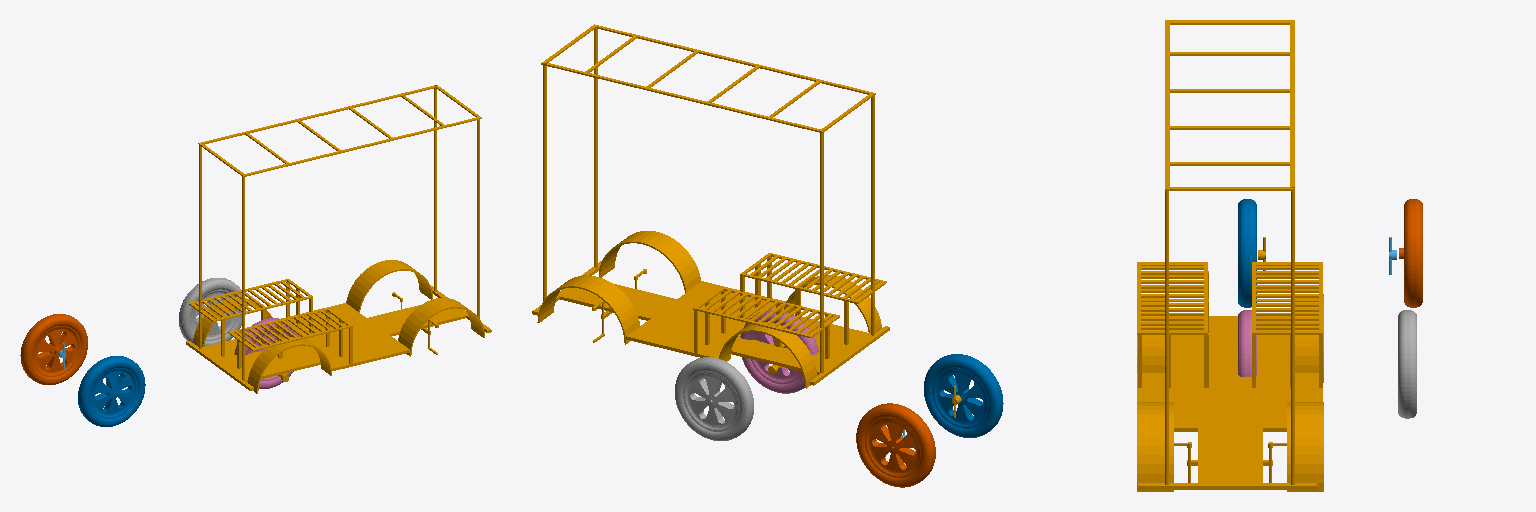
robot.urdf — automama:
<?xml version="1.0"?>

<robot name="automama" xmlns:xacro="http://ros.org/wiki/xacro">
  <origin xyz="0 2 2" rpy="0 0 0"/>
  <!-- <model name='x500_base'> -->
  <self_collide>false</self_collide>
  <static>false</static>


  <link name="chassis">
    <inertial>
      <origin xyz="-0.5 0.3 0.3" rpy="0 0 0"/>
      <mass value="300"/>
      <inertia ixx="0.5" ixy="0.0" ixz="0.0" iyy="0.5" iyz="0.0" izz="0.5"/>
      <!-- <mass>2.0</mass>
      <inertia>
        <ixx>0.02166666666666667</ixx>
        <ixy>0</ixy>
        <ixz>0</ixz>
        <iyy>0.02166666666666667</iyy>
        <iyz>0</iyz>
        <izz>0.04000000000000001</izz>
      </inertia> -->
    </inertial>
    <gravity>true</gravity>
    <!-- <velocity_decay/> -->
    <visual>
      <origin xyz="0 0 .025" rpy="0 0 3.141592654"/>
      <geometry>
        <!-- <cylinder length="0.6" radius="0.2"/> -->
        <mesh filename="package://automama/worlds/base_link.stl" />
        <scale>0.01 0.01 0.01</scale>
      </geometry>
    </visual>
    <collision name="collision">
      <geometry>
        <mesh filename="package://automama/worlds/base_link.stl">
          <scale>0.01 0.01 0.01</scale>
        </mesh>
      </geometry>
    </collision>

  </link>

  
  <link name="Camera1">
    <origin xyz="-1.47 0.4 1.85" rpy="0 0 3.14"/>
    <inertial>
        <mass value="0.1"/>
        <inertia ixx="0.000166667" ixy="0.0" ixz="0.0" iyy="0.000166667" iyz="0.0" izz="0.000166667"/>
    </inertial>
    <visual name="camera1_visual">
      <geometry>
        <box size="0.1 0.1 0.1"/>
      </geometry>
    </visual>
    <collision name="collision">
      <geometry>
        <box size="0.1 0.1 0.1"/>
      </geometry>
    </collision>
  </link>

  <joint name="Camera1_joint" type="fixed">
      <parent link="chassis"/>
      <child link="Camera1"/>
      <origin xyz="-1.47 0.4 1.85" rpy="0 0 0"/>
      <axis xyz="0 0 1"/>
  </joint>

  <link name="Camera2">
    <origin xyz="-1.47 0.05 1.85" rpy="0 0 3.14"/>
    <inertial>
        <mass value="0.1"/>
        <inertia ixx="0.000166667" ixy="0.0" ixz="0.0" iyy="0.000166667" iyz="0.0" izz="0.000166667"/>
    </inertial>
    <visual name="camera2_visual">
      <geometry>
        <box size="0.1 0.1 0.1"/>
      </geometry>
    </visual>
    <collision name="collision">
      <geometry>
        <box size="0.1 0.1 0.1"/>
      </geometry>
    </collision>
  </link>

  <joint name="Camera2_joint" type="fixed">
      <parent link="chassis"/>
      <child link="Camera2"/>
      <origin xyz="-1.47 0.05 1.85" rpy="0 0 0"/>
      <axis xyz="0 0 1"/>
  </joint>

  
  <link name="sensor_box">
    <origin xyz="-1.47 0.225 1.95" rpy="0 0 0"/>
    <inertial>  
      <mass value="0.1"/>
      <inertia ixx="0.000166667" ixy="0.0" ixz="0.0" iyy="0.000166667" iyz="0.0" izz="0.000166667"/>
    </inertial>
    <collision name="sensor_box_collision">
      <geometry>
        <box size="0.1 0.1 0.1"/>
      </geometry>
    </collision>
    <visual name="sensor_box_visual">
      <geometry>
        <box size="0.1 0.1 0.1"/>
      </geometry>
    </visual>
  </link>

  <joint name="sensor_box_joint" type="fixed">
    <parent link="chassis"/>
    <child link="sensor_box"/>
    <origin xyz="-1.47 0.225 1.95" rpy="0 0 0"/>
  </joint>


  <link name="front_left_wheel">
    <inertial>
      <origin xyz="-1.13 -0.15 0.25" rpy="0 0 0"/>
      <mass value="20"/>
      <inertia ixx="1" ixy="0" ixz="0" iyy="1" iyz="0" izz="1"/>
    </inertial>
    <visual name="visual">
      <origin xyz="0 0 0" rpy="0 0 0"/>
      <geometry>
        <mesh filename="package://automama/worlds/wheel1_1.stl"/>
        <scale>0.01 0.01 0.01</scale>
      </geometry>
      <!-- <material name="default">
        <color rgba="0.5 0.5 0.3 1"/>
      </material> -->
    </visual>
    <collision name="collision">
      <origin xyz="0 0 0" rpy="0 0 0"/>
      <geometry>
        <mesh filename="package://automama/worlds/wheel1_1.stl"/>
        <scale>0.01 0.01 0.01</scale>
      </geometry>
      <surface>
        <friction>
          <ode>
            <mu>0.5</mu>
            <mu2>1.0</mu2>
            <fdir1>0 0 1</fdir1>
          </ode>
        </friction>
      </surface>
    </collision>
  </link>

  <joint name="front_left_wheel_joint" type="continuous">
    <origin xyz="-1.13 -0.15 0.25" rpy="0 0 0"/>
    <parent link="front_left_wheel_steering_link"/>
    <child link="front_left_wheel"/>
    <axis xyz="0 1 0"/>
    <!-- <limit lower="-1.79769e+308" upper="1.79769e+308"/> -->
  </joint>


  <link name="front_right_wheel">
    <inertial>
      <origin xyz="-1.13 0.6 0.25" rpy="0 0 0"/>
      <mass value="20"/>
      <inertia ixx="1" ixy="0" ixz="0" iyy="1" iyz="0" izz="1"/>
    </inertial>
    <visual name="visual">
      <origin xyz="0 0 0" rpy="0 0 0"/>
      <geometry>
        <mesh filename="package://automama/worlds/wheel2_1.stl" />
        <scale>0.01 0.01 0.01</scale>
      </geometry>
      <!-- <material name="material">
        <color rgba="0.2 0.2 0.2 1"/>
      </material> -->
    </visual>
    <collision name="collision">
      <origin xyz="0 0 0" rpy="0 0 0"/>
      <geometry>
        <mesh filename="package://automama/worlds/wheel2_1.stl"/>
        <scale>0.01 0.01 0.01</scale>
      </geometry>
      <surface>
        <friction>
          <ode>
            <mu>0.5</mu>
            <mu2>1.0</mu2>
            <fdir1>0 0 1</fdir1>
          </ode>
        </friction>
      </surface>
    </collision>
  </link>

  <joint name="front_right_wheel_joint" type="continuous">
    <origin xyz="-1.13 0.6 0.25" rpy="0 0 0"/>
    <parent link="front_right_wheel_steering_link"/>
    <child link="front_right_wheel"/>
    <axis xyz="0 1 0"/>
    <!-- <limit lower="-1.79769e+308" upper="1.79769e+308"/> -->
  </joint>


  <link name="rear_left_wheel">
    <inertial>
      <origin xyz="0.045 -0.15 0.25" rpy="0 0 0"/>
      <mass value="20"/>
      <inertia ixx="1" ixy="0" ixz="0" iyy="1" iyz="0" izz="1"/>
    </inertial>
    <gravity>true</gravity>
    <visual name="visual">
      <origin xyz="0 0 0" rpy="0 0 0"/>
      <geometry>
        <mesh filename="package://automama/worlds/wheel3_1.stl" />
        <scale>0.01 0.01 0.01</scale>
      </geometry>
      <!-- <material name="material">
        <color rgba="0.2 0.2 0.2 1"/>
      </material> -->
    </visual>
    <collision name="collision">
      <origin xyz="0 0 0" rpy="0 0 0"/>
      <geometry>
        <mesh filename="package://automama/worlds/wheel3_1.stl" />
        <scale>0.01 0.01 0.01</scale>
      </geometry>
      <surface>
        <friction>
          <ode>
            <mu>0.5</mu>
            <mu2>1.0</mu2>
            <fdir1>0 0 1</fdir1>
          </ode>
        </friction>
      </surface>
    </collision>
  </link>

  <joint name="rear_left_wheel_joint" type="continuous">
    <origin xyz="0.045 -0.15 0.25" rpy="0 0 0"/>
    <parent link="chassis"/>
    <child link="rear_left_wheel"/>
    <axis>
      <xyz>0 1 0</xyz>
      <!-- <limit lower="-1.79769e+308" upper="1.79769e+308"/> -->
    </axis>
  </joint>



  <link name="rear_right_wheel">
    <inertial>
      <origin xyz="0.045 0.6 0.25" rpy="0 0 0"/>
      <mass value="20"/>
      <inertia ixx="1" ixy="0" ixz="0" iyy="1" iyz="0" izz="1"/>
    </inertial>
    <visual name="visual">
      <origin xyz="0 0 0" rpy="0 0 0"/>
      <geometry>
        <mesh filename="package://automama/worlds/wheel4_1.stl" />
        <scale>0.01 0.01 0.01</scale>
      </geometry>
      <!-- <material name="material">
        <color rgba="0.2 0.2 0.2 1"/>
      </material> -->
    </visual>
    <collision name="collision">
      <origin xyz="0 0 0" rpy="0 0 0"/>
      <geometry>
        <mesh filename="package://automama/worlds/wheel4_1.stl" />
        <scale>0.01 0.01 0.01</scale>
      </geometry>
      <surface>
        <friction>
          <ode>
            <mu>0.5</mu>
            <mu2>1.0</mu2>
            <fdir1>0 0 1</fdir1>
          </ode>
        </friction>
      </surface>
    </collision>
  </link>

  <joint name="rear_right_wheel_joint" type="continuous">
    <origin xyz="0.045 0.6 0.25" rpy="0 0 0"/>
    <parent link="chassis"/>
    <child link="rear_right_wheel"/>
    <axis>
      <xyz>0 1 0</xyz>
      <!-- <limit lower="-1.79769e+308" upper="1.79769e+308"/> -->
    </axis>
  </joint>


  <link name="front_left_wheel_steering_link">
    <inertial>
      <origin xyz="-1.135 -0.065 0.25" rpy="0 0 0"/>
      <mass value="5"/>
      <inertia ixx="1" ixy="0" ixz="0" iyy="1" iyz="0.0" izz="1"/>
    </inertial>
    <visual name="steering_link_visual">
      <origin xyz="0 0 0" rpy="0 0 0"/>
      <geometry>
        <mesh filename="package://automama/worlds/wheel1_link_1.stl" />
        <scale>0.01 0.01 0.01</scale>
      </geometry>
      <!-- <material name="white"/> -->
    </visual>
  </link>

  <joint name="front_left_wheel_steering_joint" type="revolute">
    <origin xyz="-1.135 -0.065 0.25" rpy="0 0 0"/>
    <parent link="chassis"/>
    <child link="front_left_wheel_steering_link"/>
    <axis xyz="0 0 1"/>
    <limit lower="-0.6" upper="0.6" velocity="1.0" effort="25"/>
  </joint>


  <link name="front_right_wheel_steering_link">
    <inertial>
      <origin xyz="-1.135 0.51 0.25" rpy="0 0 0"/>
      <mass value="5"/>
      <inertia ixx="1" ixy="0" ixz="0" iyy="1" iyz="0.0" izz="1"/>
    </inertial>
    <visual name="steering_link_visual">
      <origin xyz="0 0 0" rpy="0 0 0"/>
      <geometry>
        <mesh filename="package://automama/worlds/wheel2_link_1.stl" />
        <scale>0.01 0.01 0.01</scale>
      </geometry>
      <!-- <material name="white"/> -->
    </visual>
  </link>

  <joint name="front_right_wheel_steering_joint" type="revolute">
    <origin xyz="-1.135 0.51 0.25" rpy="0 0 0"/>
    <parent link="chassis"/>
    <child link="front_right_wheel_steering_link"/>
    <axis xyz="0 0 1"/>
    <limit lower="-0.6" upper="0.6" velocity="1.0" effort="25"/>
  </joint>

</robot>

--- Facts derived from the render (not from the file) ---
3 views of the same robot in one strip: view 1: azimuth 30°, elevation 25°; view 2: azimuth 150°, elevation 25°; view 3: azimuth 270°, elevation 25° (orthographic).
Model automama with 10 links and 9 joints (2 revolute, 4 continuous, 3 fixed), rooted at chassis, posed all joints at 0.
Links seen in each view (by area): view 1: chassis, front_left_wheel, front_right_wheel, rear_right_wheel, rear_left_wheel; view 2: chassis, front_right_wheel, rear_right_wheel, front_left_wheel, rear_left_wheel; view 3: chassis, front_right_wheel, rear_right_wheel, front_left_wheel, rear_left_wheel.
Boxes of the visible links, box(x1,y1,x2,y2) form: chassis: box(186, 85, 491, 393); front_left_wheel: box(78, 356, 145, 426); front_right_wheel: box(20, 314, 87, 384); rear_right_wheel: box(179, 278, 245, 346); rear_left_wheel: box(234, 318, 299, 388); chassis: box(532, 24, 889, 388); front_right_wheel: box(856, 403, 935, 487); rear_right_wheel: box(675, 357, 753, 440); front_left_wheel: box(924, 354, 1003, 437); rear_left_wheel: box(740, 310, 818, 393); chassis: box(1137, 20, 1323, 491); front_right_wheel: box(1399, 199, 1422, 307); rear_right_wheel: box(1398, 310, 1416, 418); front_left_wheel: box(1238, 199, 1256, 307); rear_left_wheel: box(1238, 310, 1256, 376).
Bounding box of the posed robot: 289 × 132 × 181 m (x, y, z).
7 mesh visuals loaded from 7 distinct referenced files (7 binary STL).